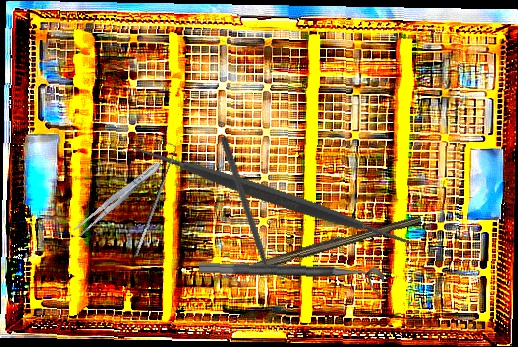Dressing Forceps: (70, 157, 166, 240)
Fixation Ring: (198, 261, 385, 296)
Hook Surgical: (125, 140, 182, 257)
Pusher: (218, 135, 277, 292)
Scalpel Handle: (240, 210, 422, 278)
Spatula Surgical: (126, 50, 418, 340)
